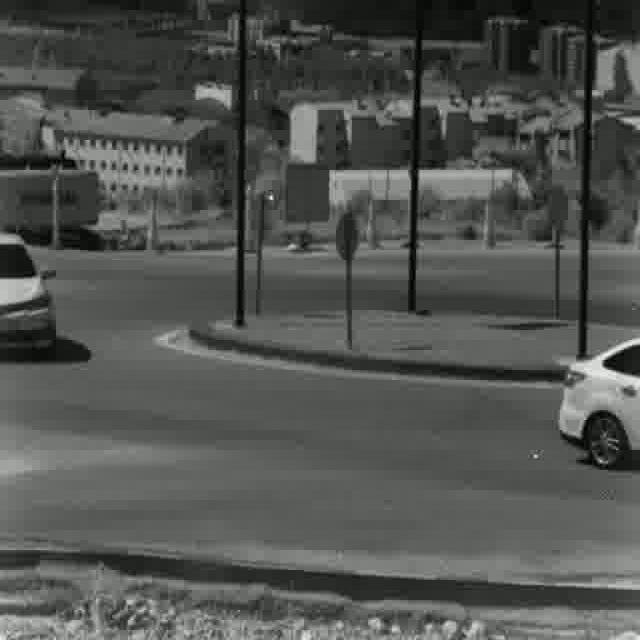Car: (556, 338, 640, 463), (0, 232, 54, 362)
